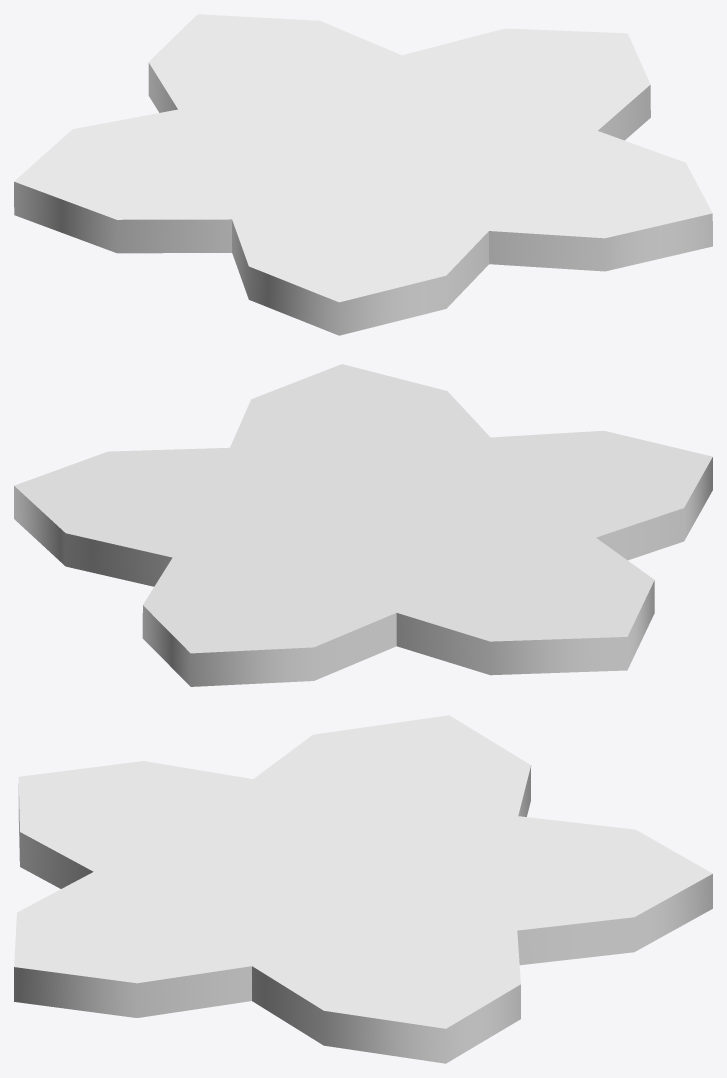
The model's file is Flower_3.FBX.
3 renders of one model, top to bottom at view 1: azimuth 30°, elevation 25°; view 2: azimuth 150°, elevation 25°; view 3: azimuth 270°, elevation 25°, orthographic. The views are drawn at different scales.
Parts seen in each view (by area): view 1: Flower_3; view 2: Flower_3; view 3: Flower_3.
Part boxes in pixels (<box>): Flower_3: <box>14,14,712,335</box>; Flower_3: <box>14,364,712,686</box>; Flower_3: <box>14,715,712,1063</box>.
Bounding box in the file's own units: 0.1604 × 0.0105 × 0.151.
1 material, 1 textured.
